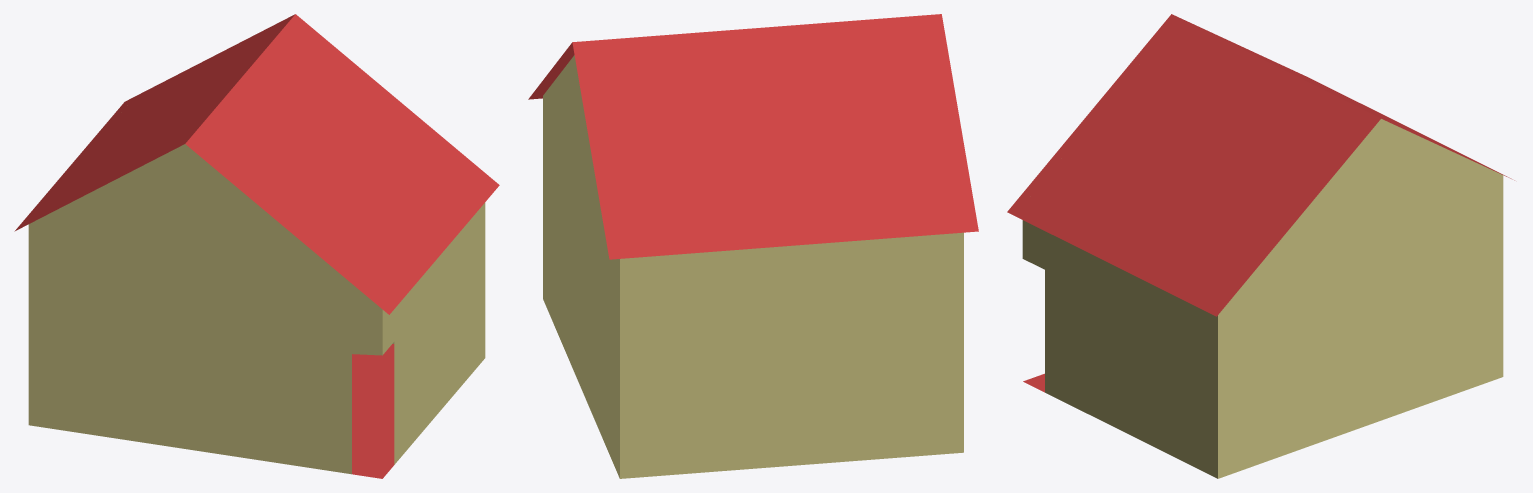
The picture shows the model from 3 angles, left to right: view 1: azimuth 30°, elevation 25°; view 2: azimuth 150°, elevation 25°; view 3: azimuth 270°, elevation 25°; orthographic projection. The views are drawn at different scales.
Size of the model in its own units: 22.48 by 22.85 by 15.18.
